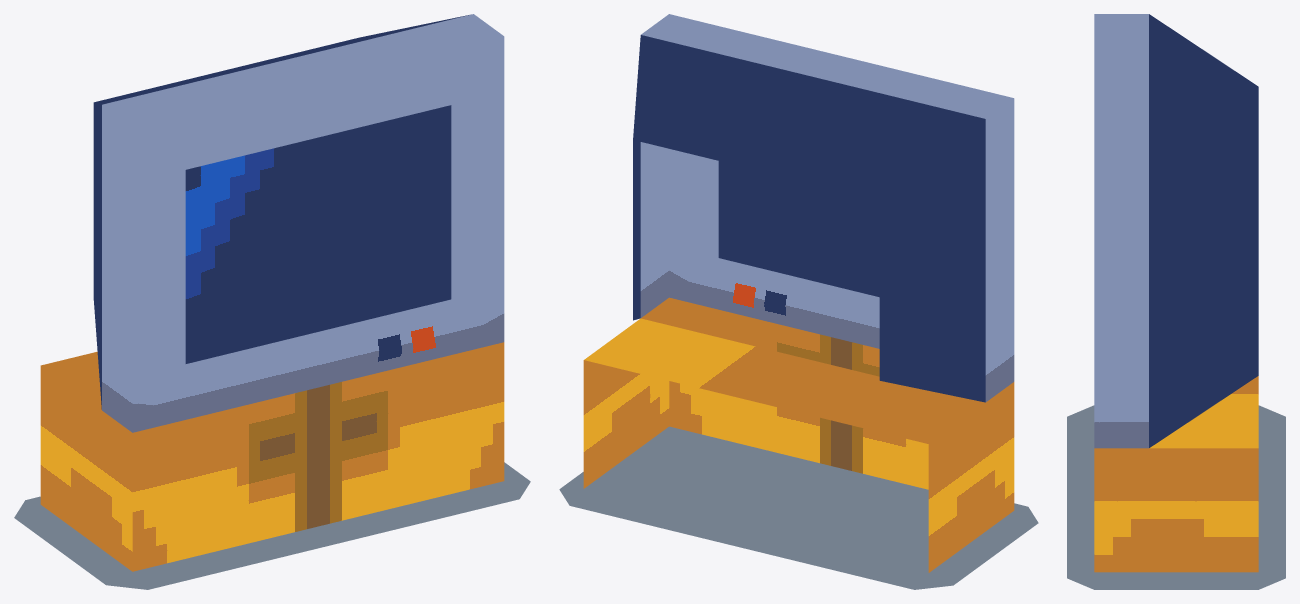
3 renders of one model, left to right at view 1: azimuth 30°, elevation 25°; view 2: azimuth 150°, elevation 25°; view 3: azimuth 270°, elevation 25°, orthographic. The views are drawn at different scales.
Visible parts, largest first — view 1: 01_polygon0, 00_polygon1; view 2: 01_polygon0, 00_polygon1; view 3: 01_polygon0, 00_polygon1.
Part boxes in pixels (box(x1,y1,x2,y2)): 01_polygon0: box(40, 14, 504, 571); 00_polygon1: box(14, 462, 530, 589); 01_polygon0: box(583, 14, 1014, 572); 00_polygon1: box(559, 426, 1038, 589); 01_polygon0: box(1094, 14, 1258, 572); 00_polygon1: box(1067, 405, 1285, 589).
Bounding box in the file's own units: 0.25 × 0.2539 × 0.125.
1 material, 1 textured.
